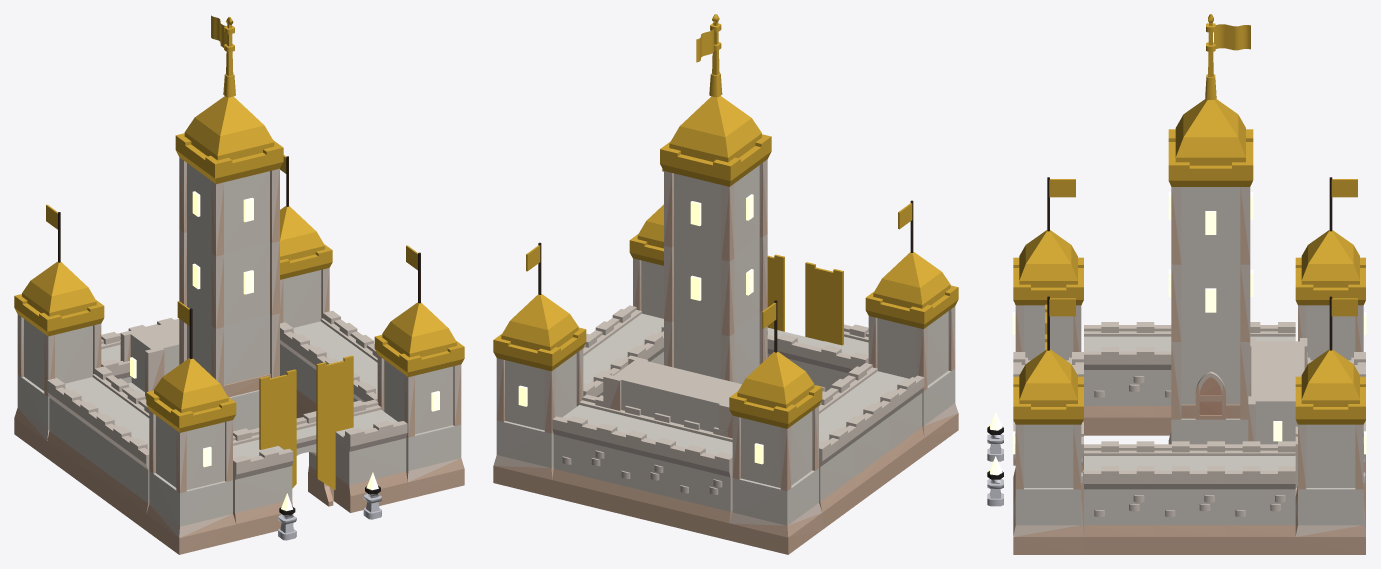
The model's file is keep_l3.glb.
3 views of the same model, side by side, from view 1: azimuth 30°, elevation 25°; view 2: azimuth 150°, elevation 25°; view 3: azimuth 270°, elevation 25° (orthographic). The views are drawn at different scales.
Parts seen in each view (by area): view 1: keep_l3; view 2: keep_l3; view 3: keep_l3.
Boxes of the visible parts, left/top/right/bottom form: keep_l3: left=14, top=15, right=464, bottom=554; keep_l3: left=493, top=14, right=958, bottom=554; keep_l3: left=987, top=14, right=1366, bottom=554.
Size of the model in its own units: 7.34 by 10.7 by 7.9.
